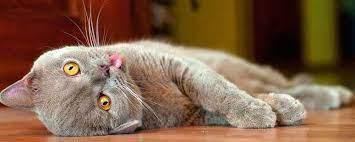animals: (2, 34, 355, 135)
